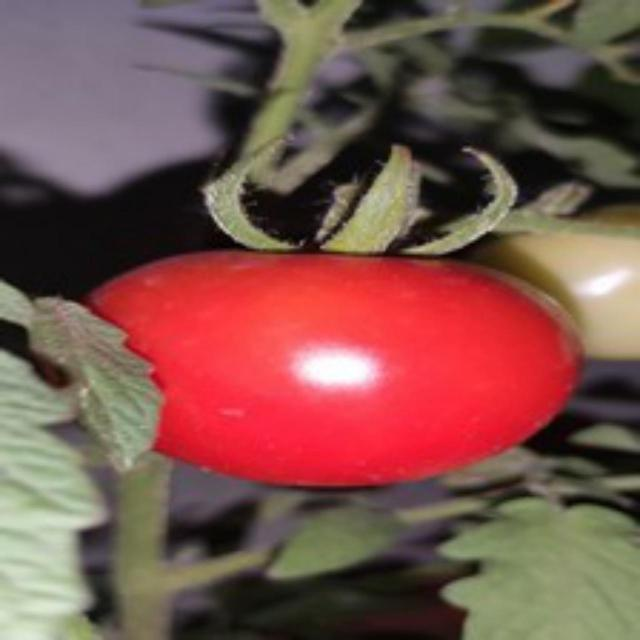tomato: (76, 244, 591, 490)
